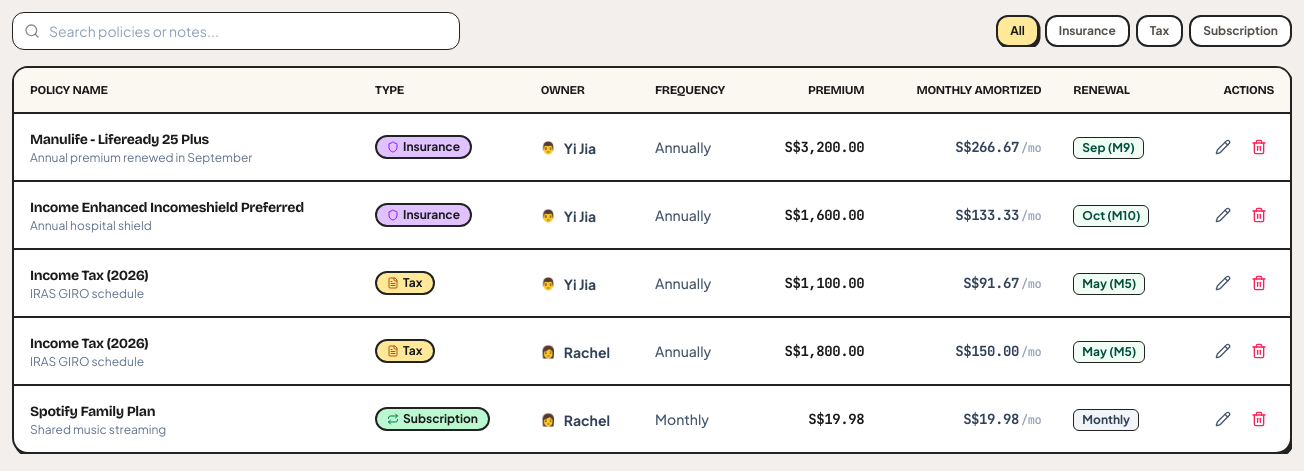
Test case: PolicyTable Component › filters policies by type selection
# Select Subscription filter
Click the button "Subscription": (1241, 31) 1189,15 -> 1292,47
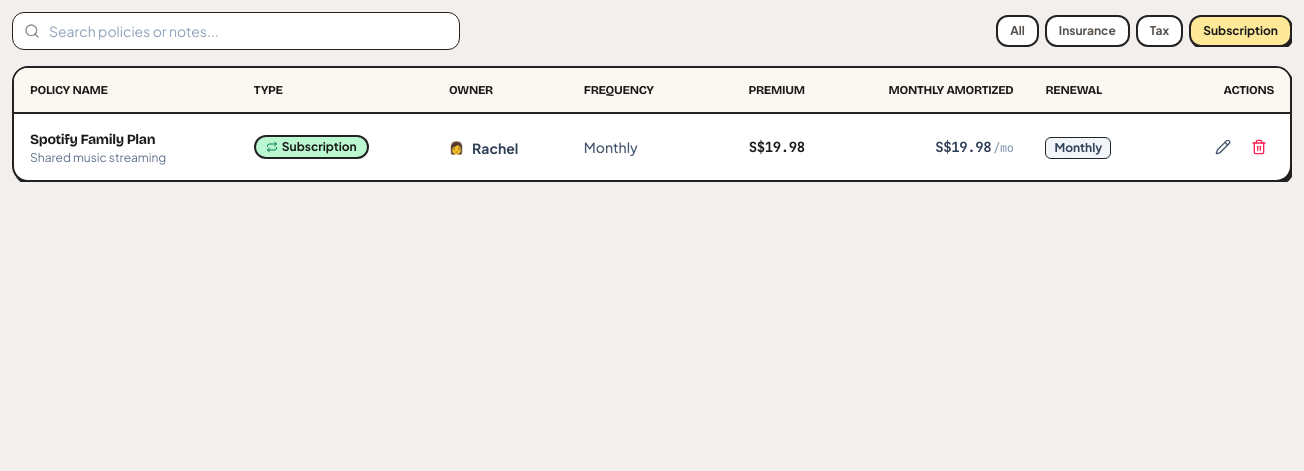
Check: the text "Spotify Family Plan" is shown, box 30,131 -> 155,148
Check: the text "Manulife - Lifeready 25 Plus" is gone
